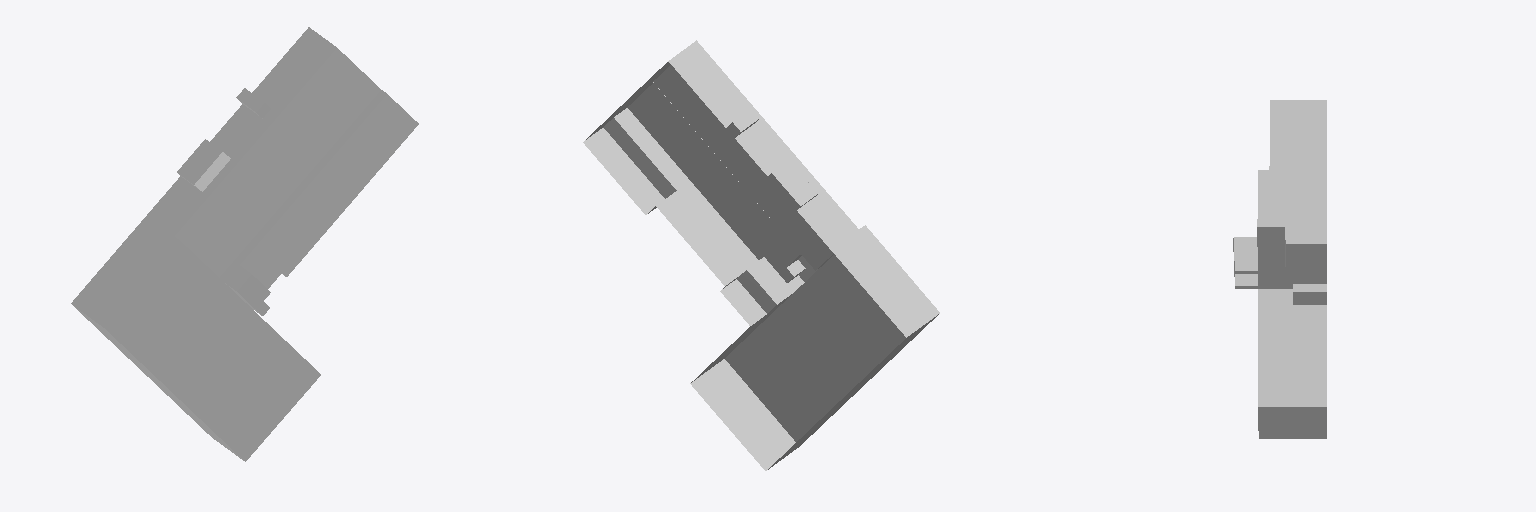
Rendered from talo_Build0000073.obj.
3 renders of one model, left to right at view 1: azimuth 30°, elevation 25°; view 2: azimuth 150°, elevation 25°; view 3: azimuth 270°, elevation 25°, orthographic.
Bounding box in the file's own units: 44.9 × 51.24 × 11.25.